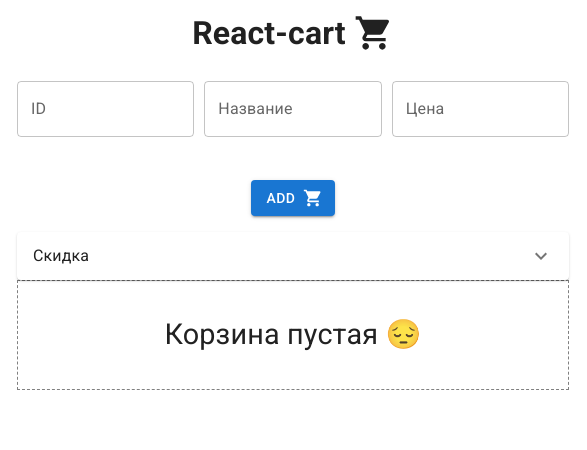
Корзина › does not allow repeated IDs
Type "book" into the field labelled "ID". click: (106, 109)
box: [17,81,194,137]
Type "Книга" into the field labelled "Название". click: (293, 109)
box: [204,81,382,137]
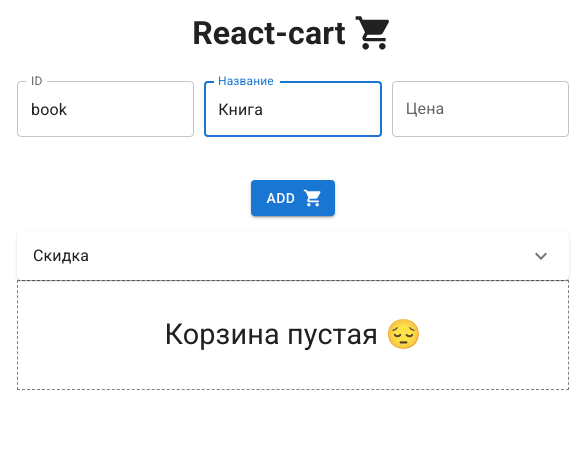
Type "100" into the field labelled "Цена". click: (480, 109)
box: [392,81,569,137]
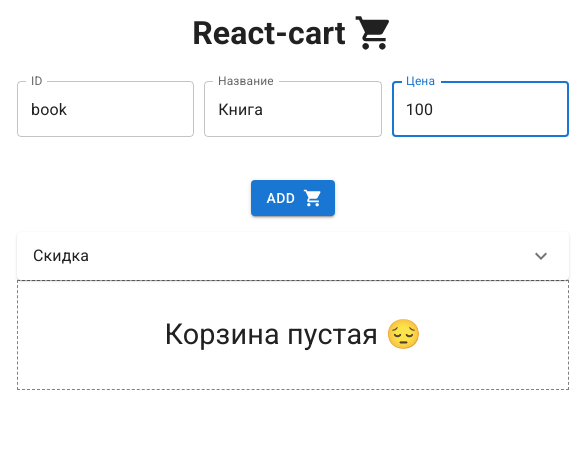
Click the button "Add". click: (293, 198)
box: [251,180,335,216]
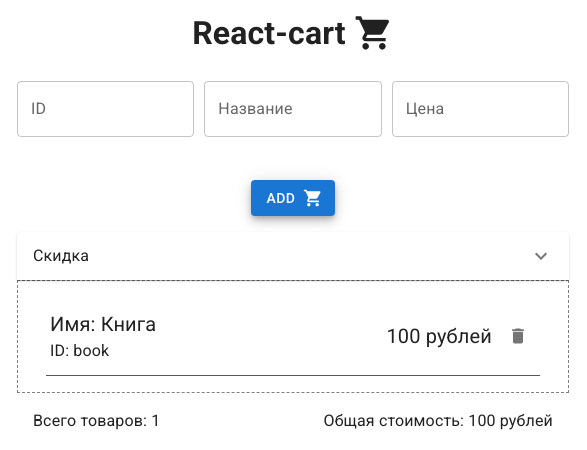
Type "book" into the field labelled "ID". click: (106, 109)
box: [17,81,194,137]
Type "Дубль" into the field labelled "Название". click: (293, 109)
box: [204,81,382,137]
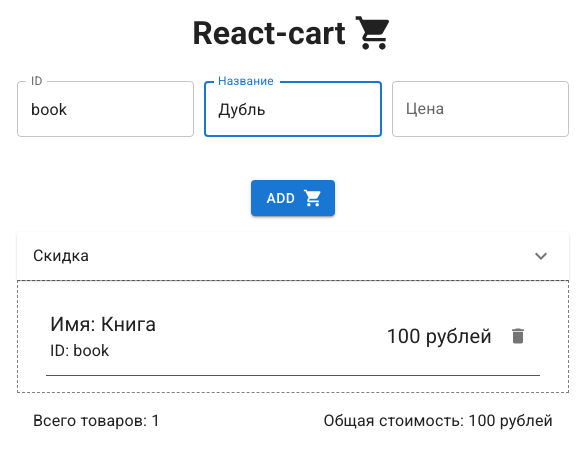
Type "200" into the field labelled "Цена". click: (480, 109)
box: [392,81,569,137]
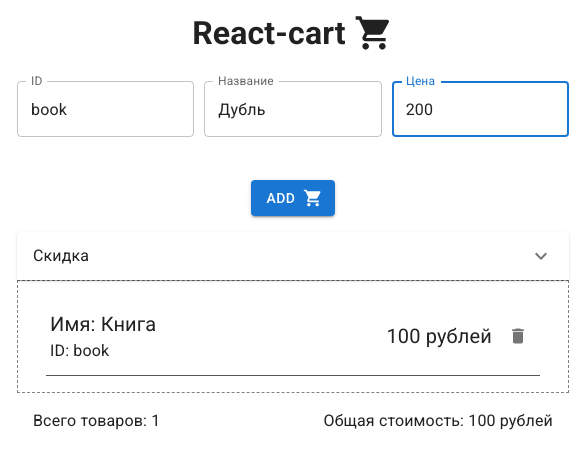
Click the button "Add". click: (293, 198)
box: [251,180,335,216]
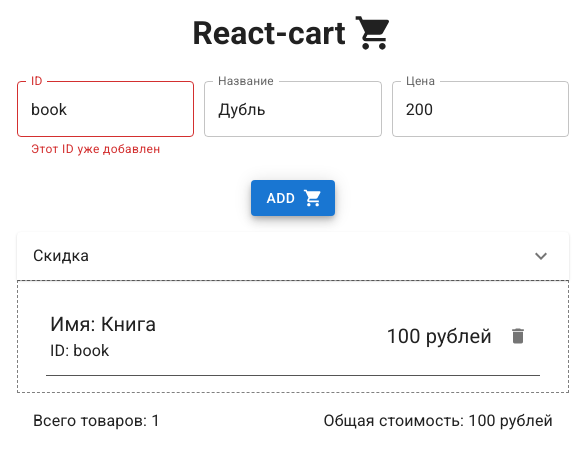
Expected: the text "Всего товаров: 1" is shown, [33,409,160,433]
Expected: the text "Этот ID уже добавлен" is shown, [31,140,180,160]
